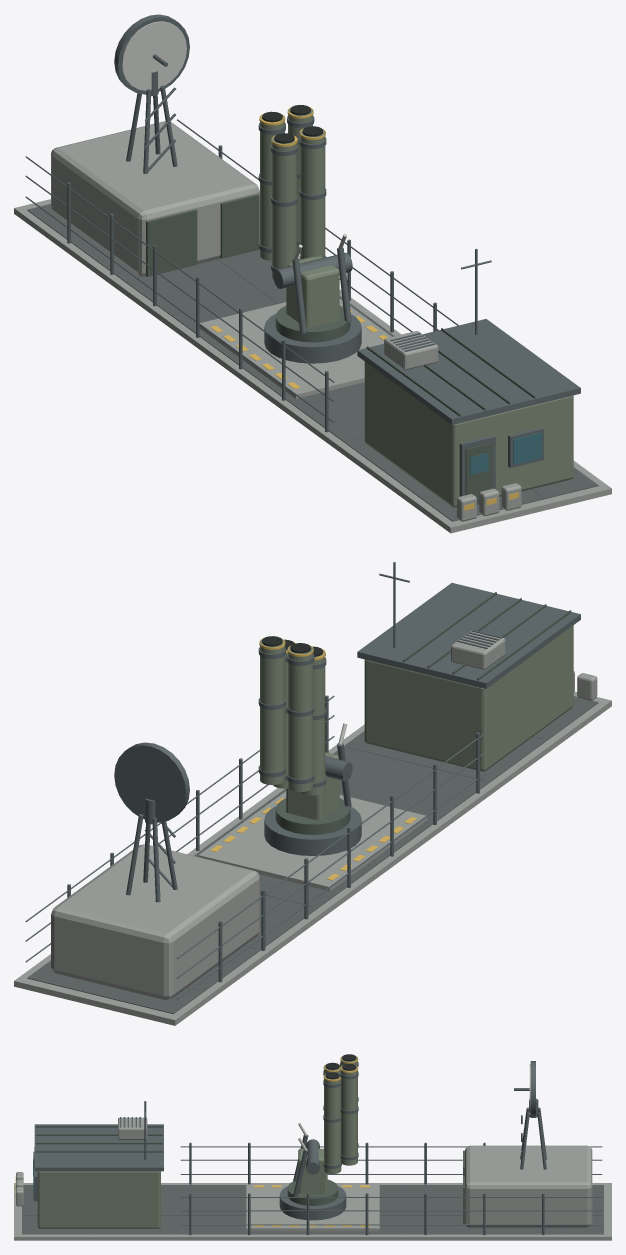
File: military_1x4_c.glb
The picture shows the model from 3 angles, top to bottom: view 1: azimuth 30°, elevation 25°; view 2: azimuth 150°, elevation 25°; view 3: azimuth 270°, elevation 25°; orthographic projection. The views are drawn at different scales.
Parts seen in each view (by area): view 1: military_1x4_c_foundation; view 2: military_1x4_c_foundation; view 3: military_1x4_c_foundation.
Boxes of the visible parts, box(x1,y1,x2,y2) form: military_1x4_c_foundation: box(14, 14, 611, 533); military_1x4_c_foundation: box(14, 562, 611, 1025); military_1x4_c_foundation: box(14, 1054, 611, 1240).
Size of the model in its own units: 6.5 by 8.55 by 30.5.
